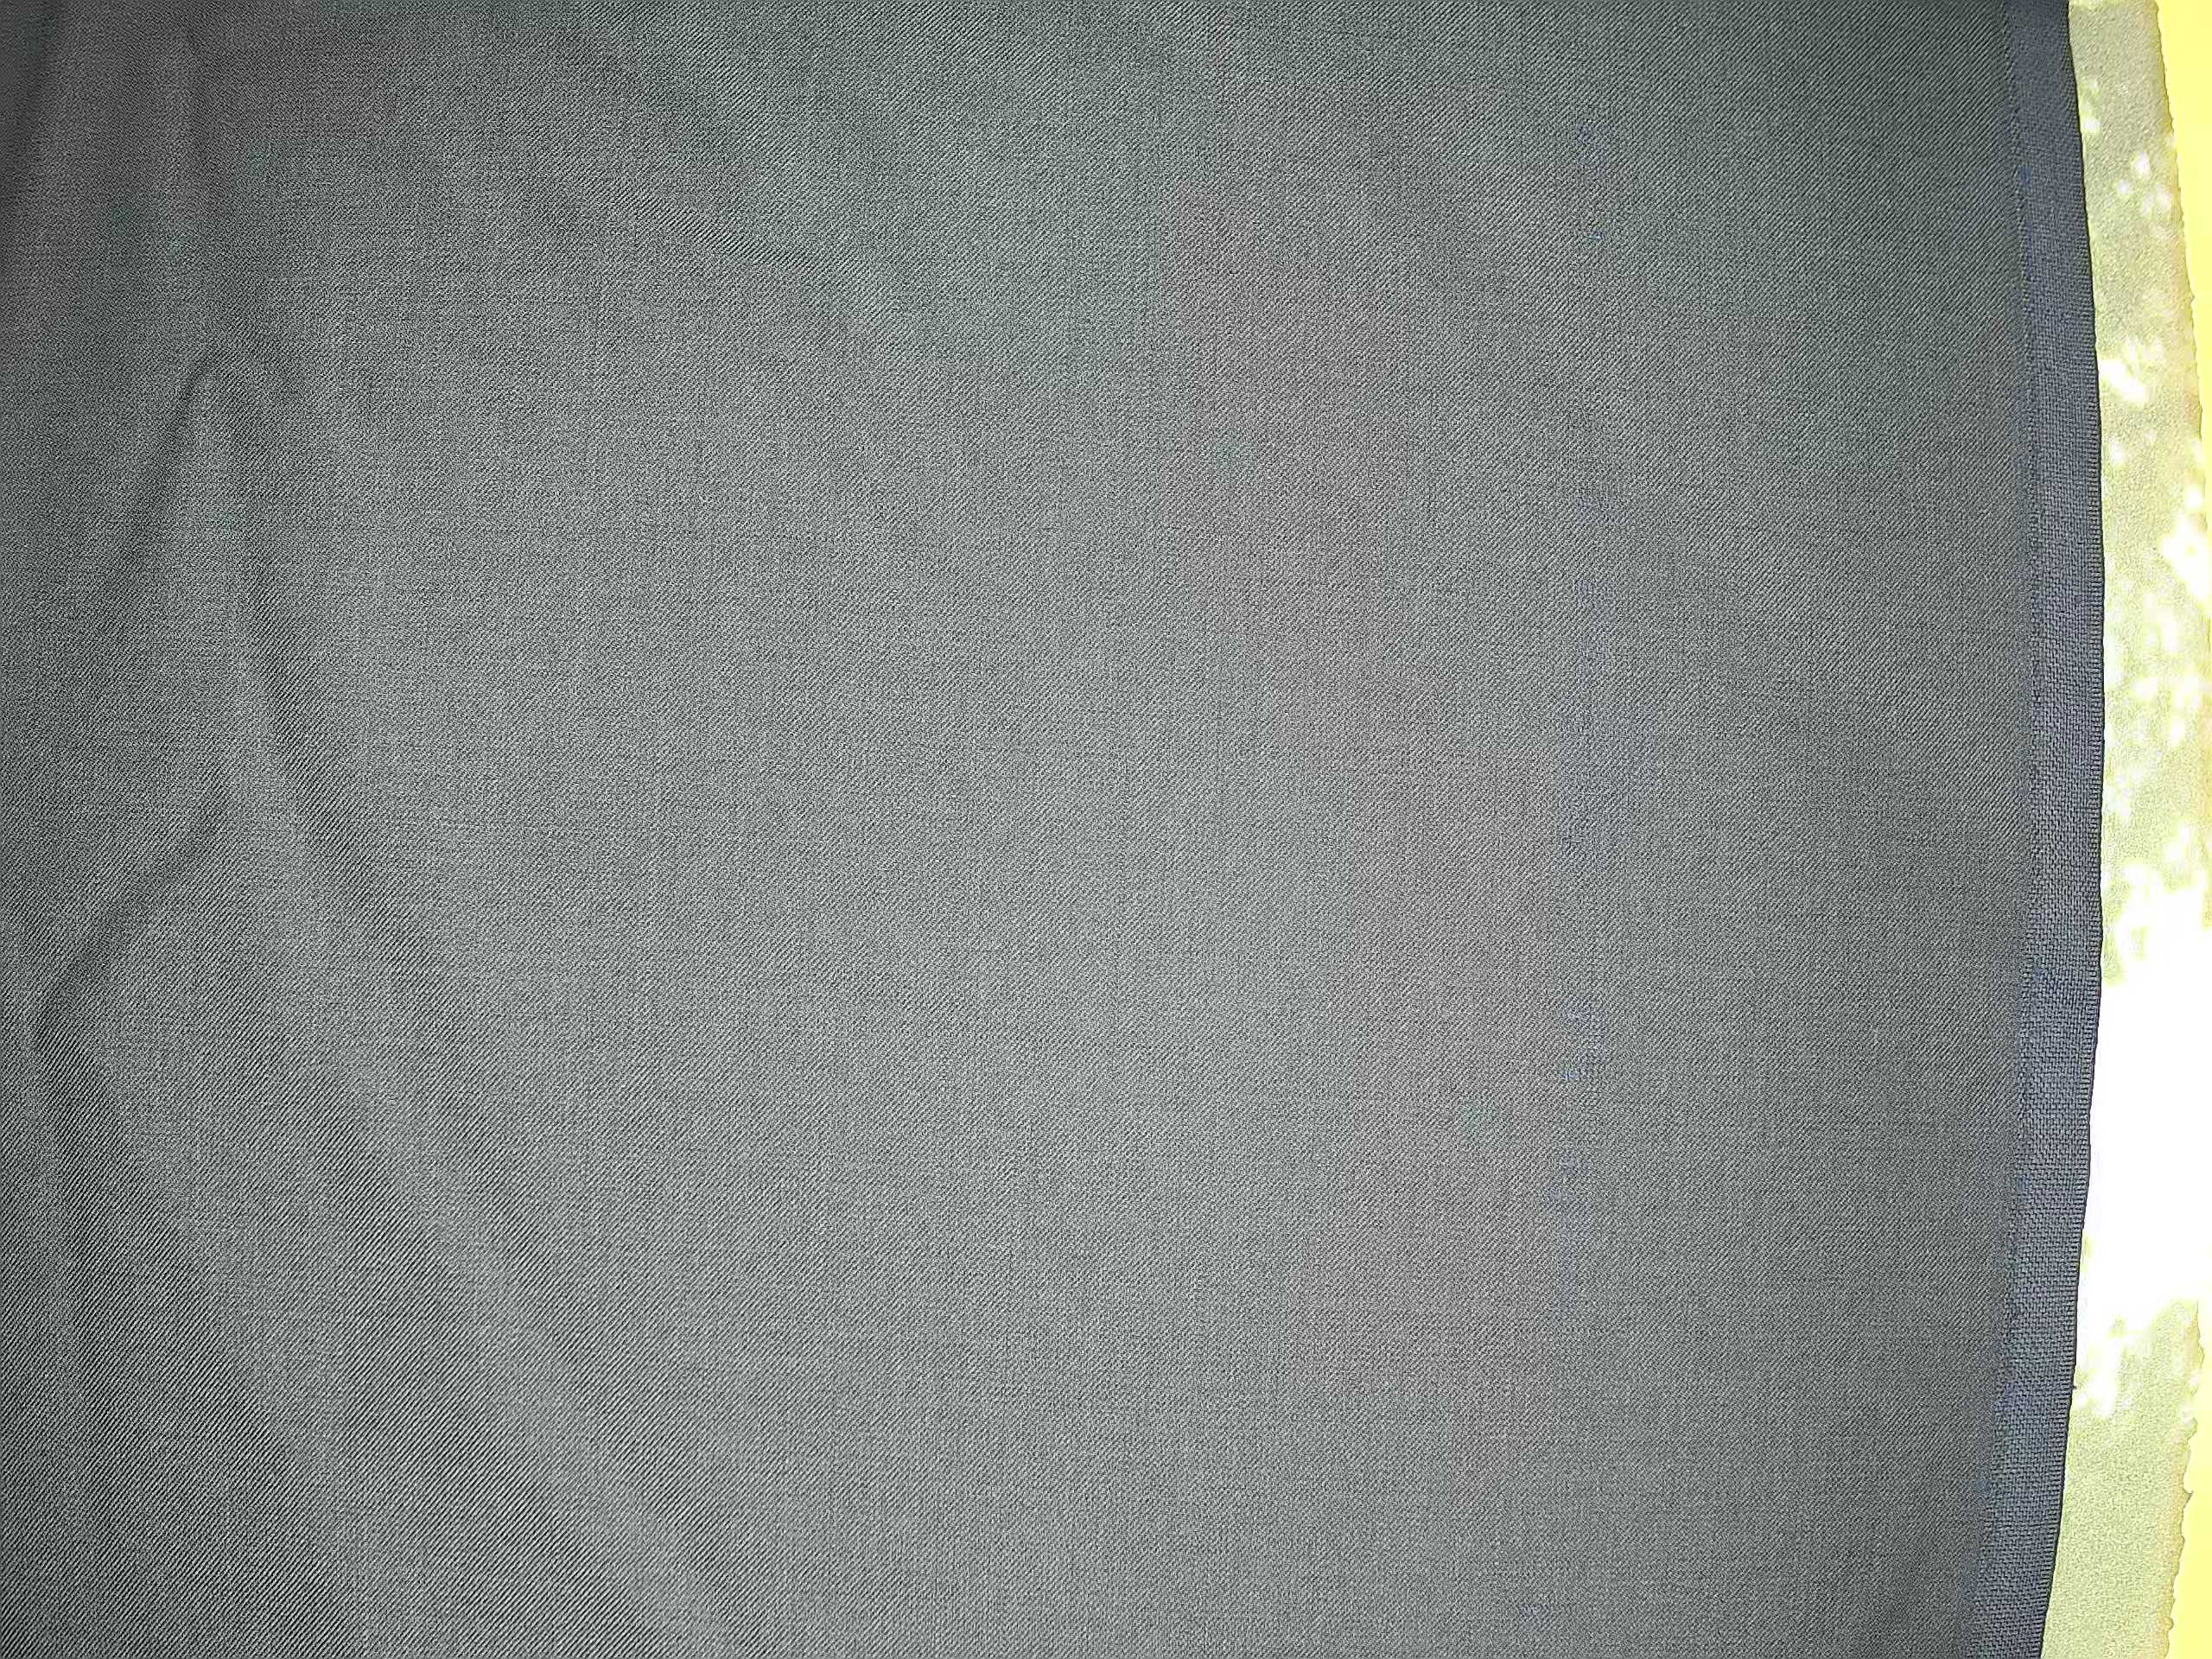jumps: (1575, 662, 1674, 887), (1555, 87, 1642, 277), (1514, 1049, 1676, 1108)
